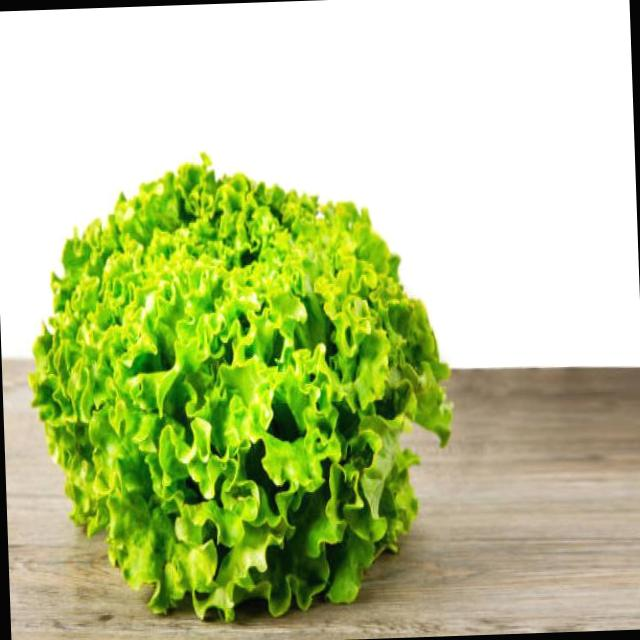Lettuce-Ready-to-Harvest: (31, 160, 451, 619)
